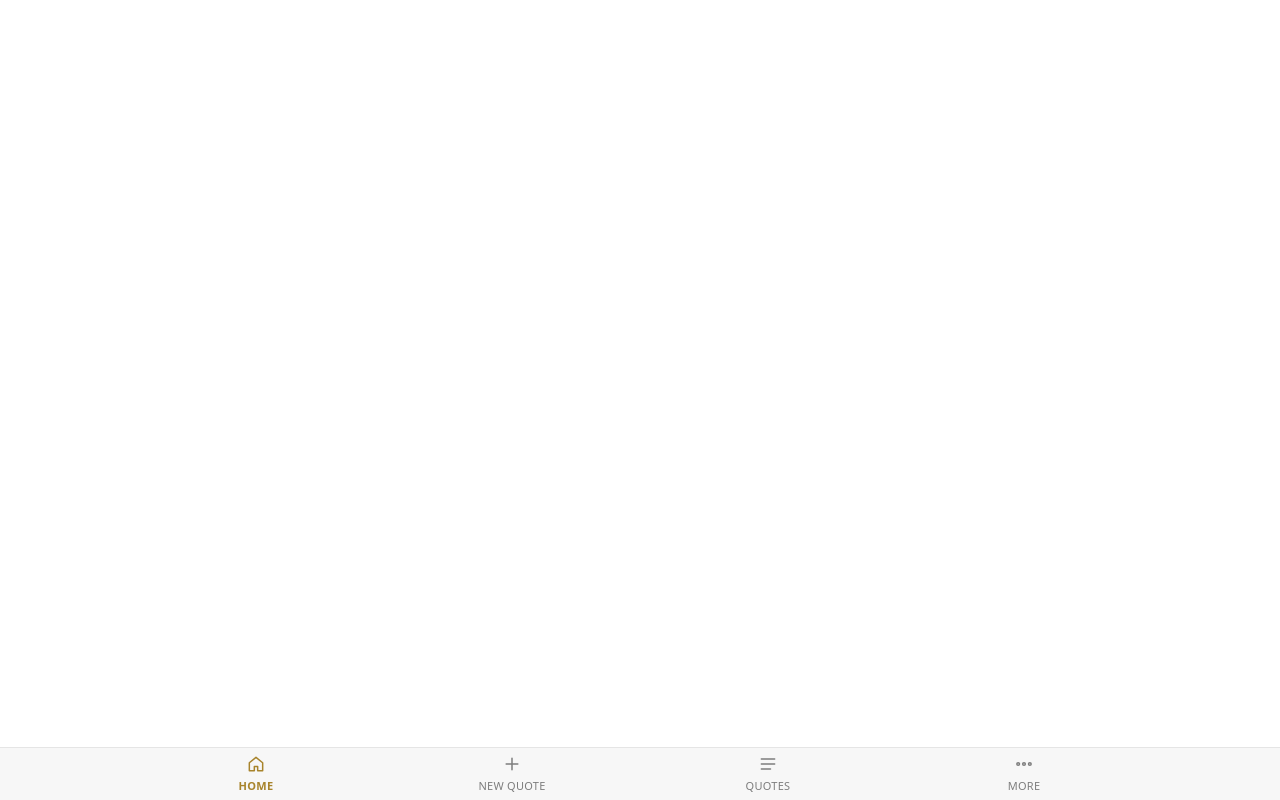
Test: TabBar More sheet (#49) › closes on Escape, on Close, and on a route change
Click the button "More" at (1024, 774), box [896,748,1152,799]
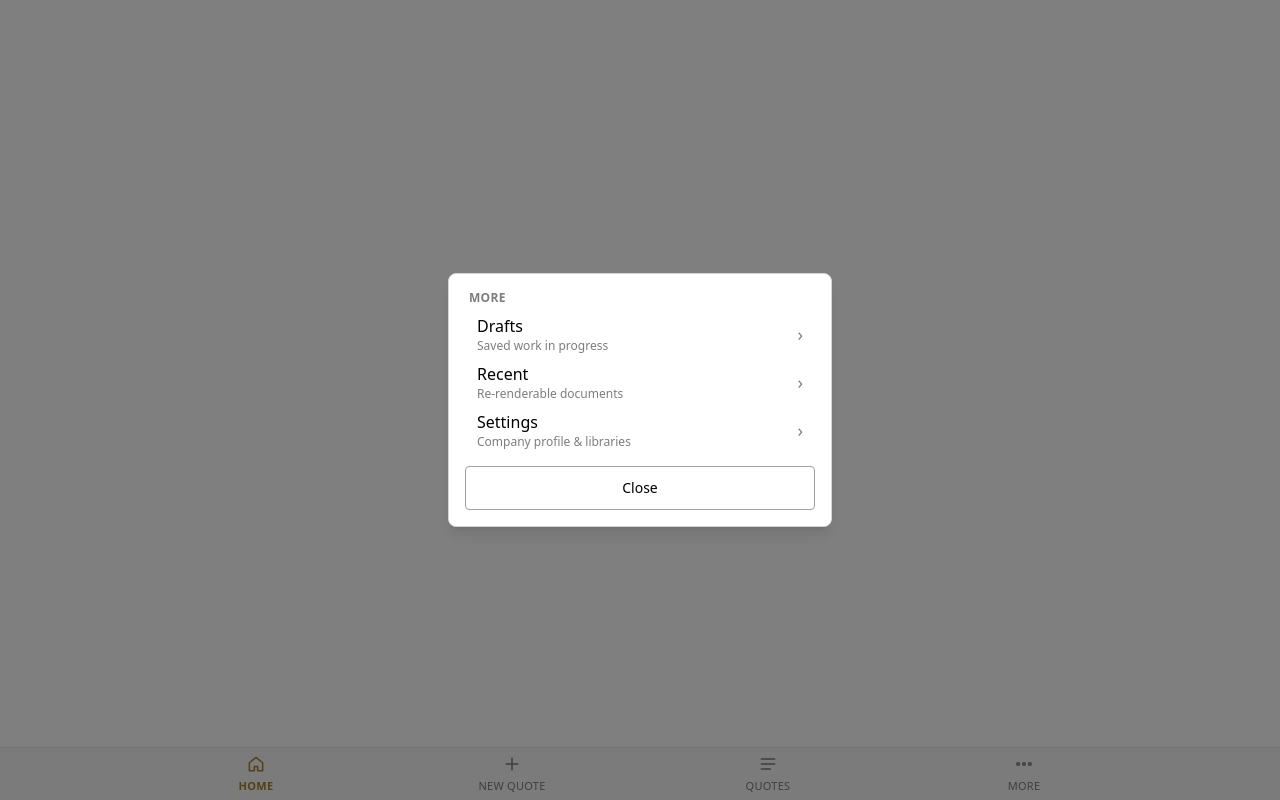
Press Escape
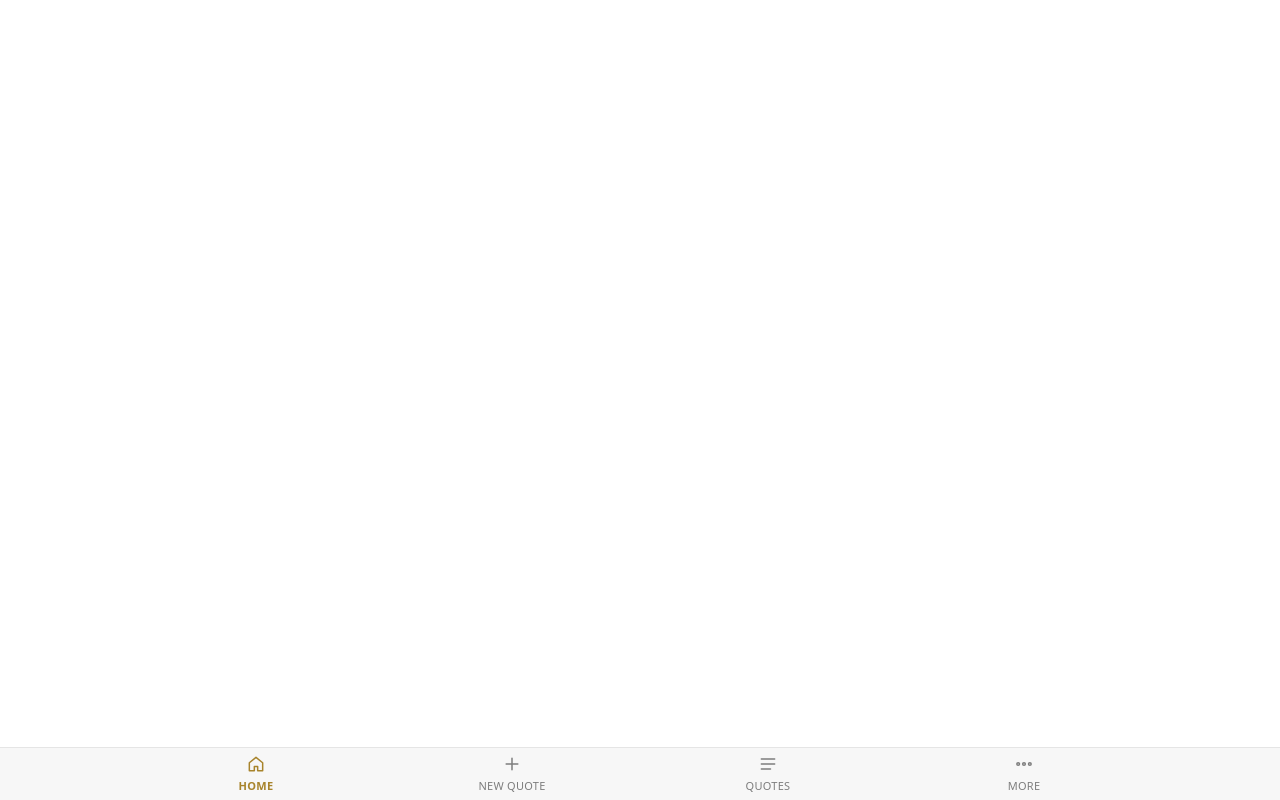
Expected: the dialog is gone
Expected: the button "More" is collapsed
Click the button "More" at (1024, 774), box [896,748,1152,799]
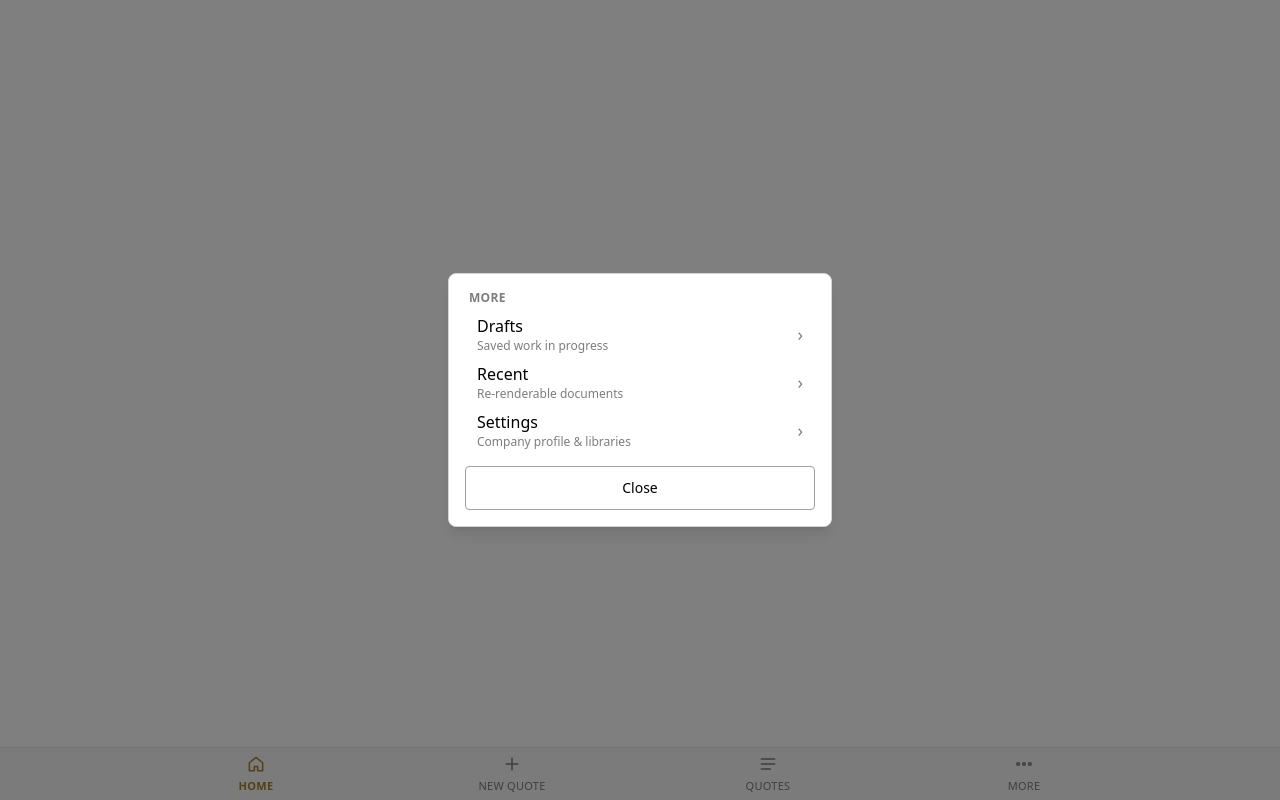
Click the button "Close" at (640, 488), box [465,466,815,510]
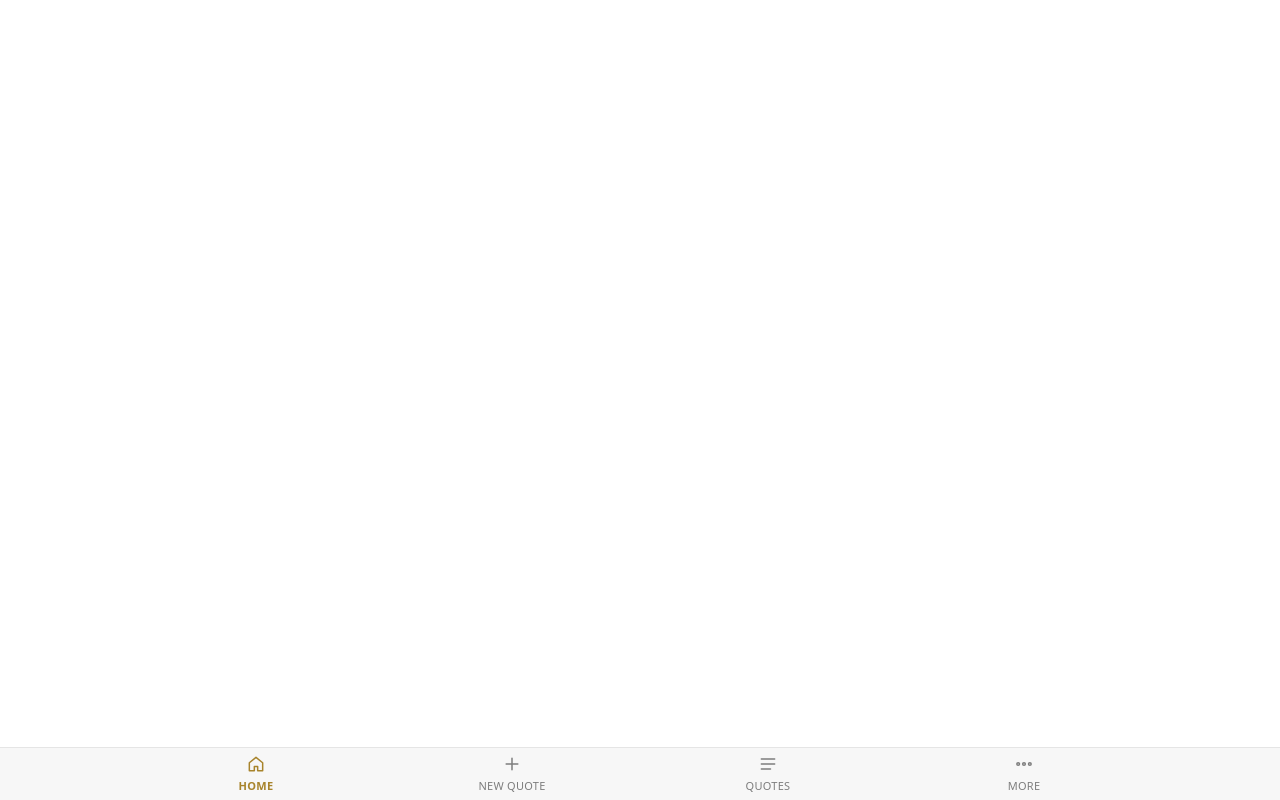
Expected: the dialog is gone
The bar lives in the layout, so it survives navigation and must clear itself.
Click the button "More" at (1024, 774), box [896,748,1152,799]
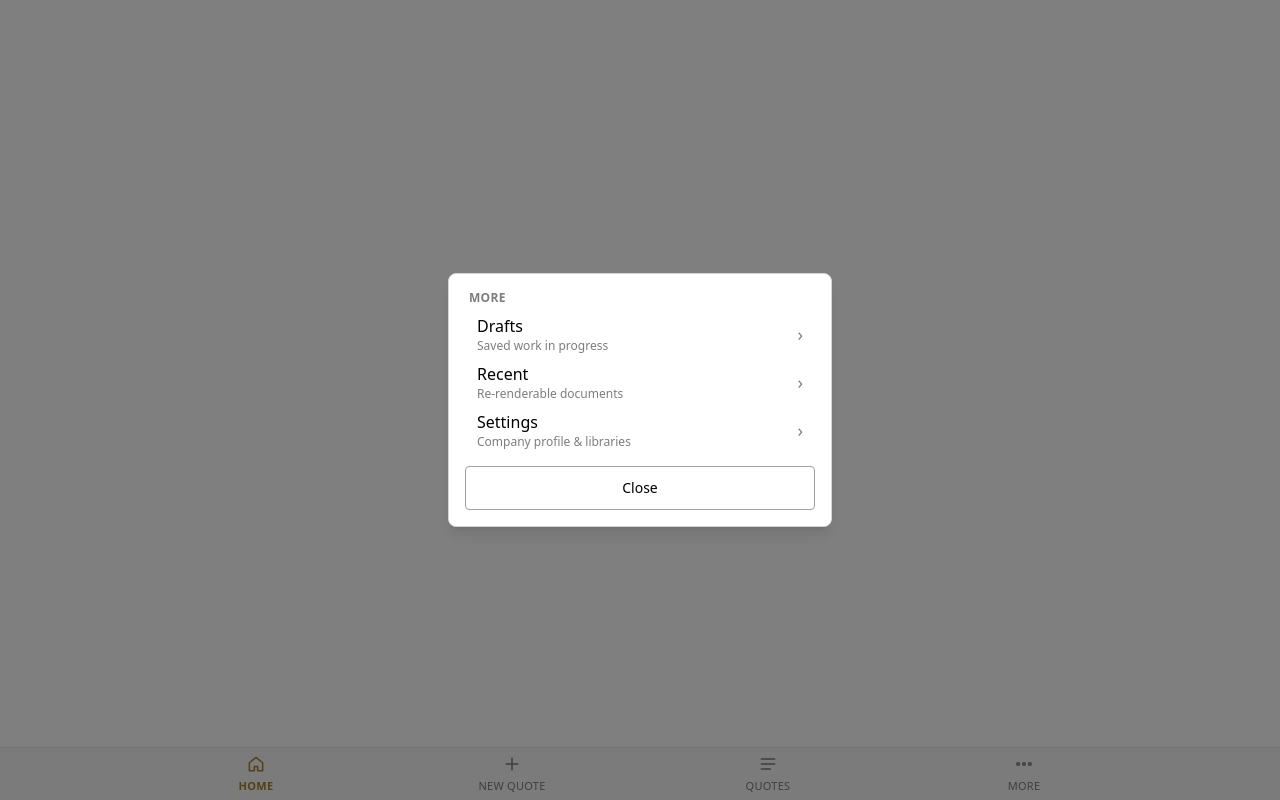
Expected: the dialog is shown, [448,273,832,527]
